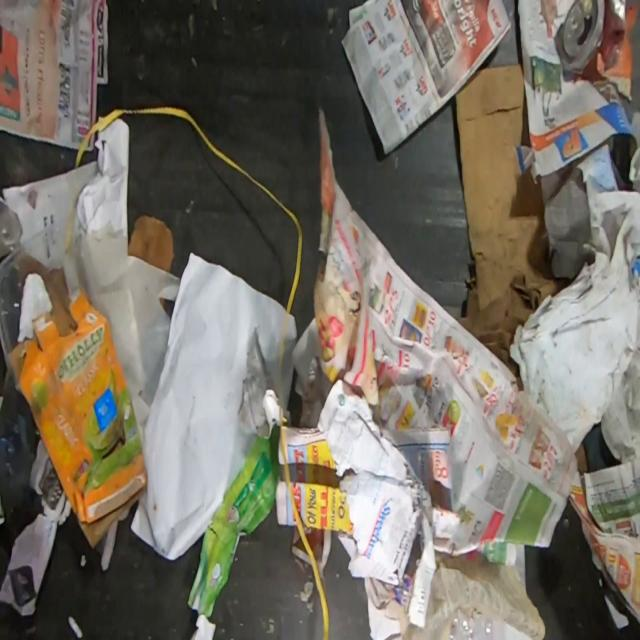cardboard: (10, 283, 146, 545), (455, 63, 562, 375), (128, 215, 174, 272), (43, 268, 76, 334), (16, 252, 52, 288)
metal: (554, 0, 632, 76)
rigid_plastic: (0, 232, 37, 541)
soft_plastic: (188, 421, 283, 618), (401, 551, 546, 640), (0, 197, 24, 266)
